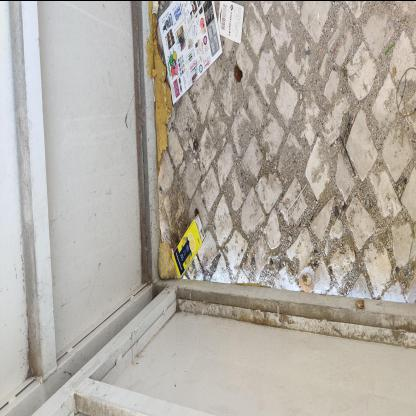kagit: (157, 0, 223, 104)
karton: (172, 211, 206, 278), (217, 1, 245, 43)
